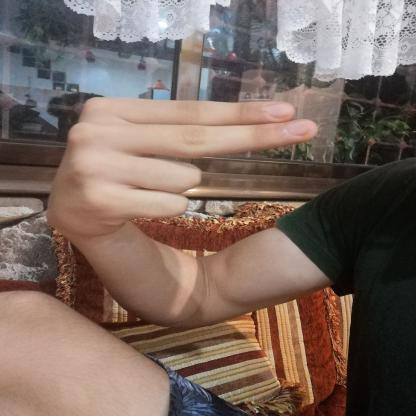AYN: (30, 80, 332, 250)
